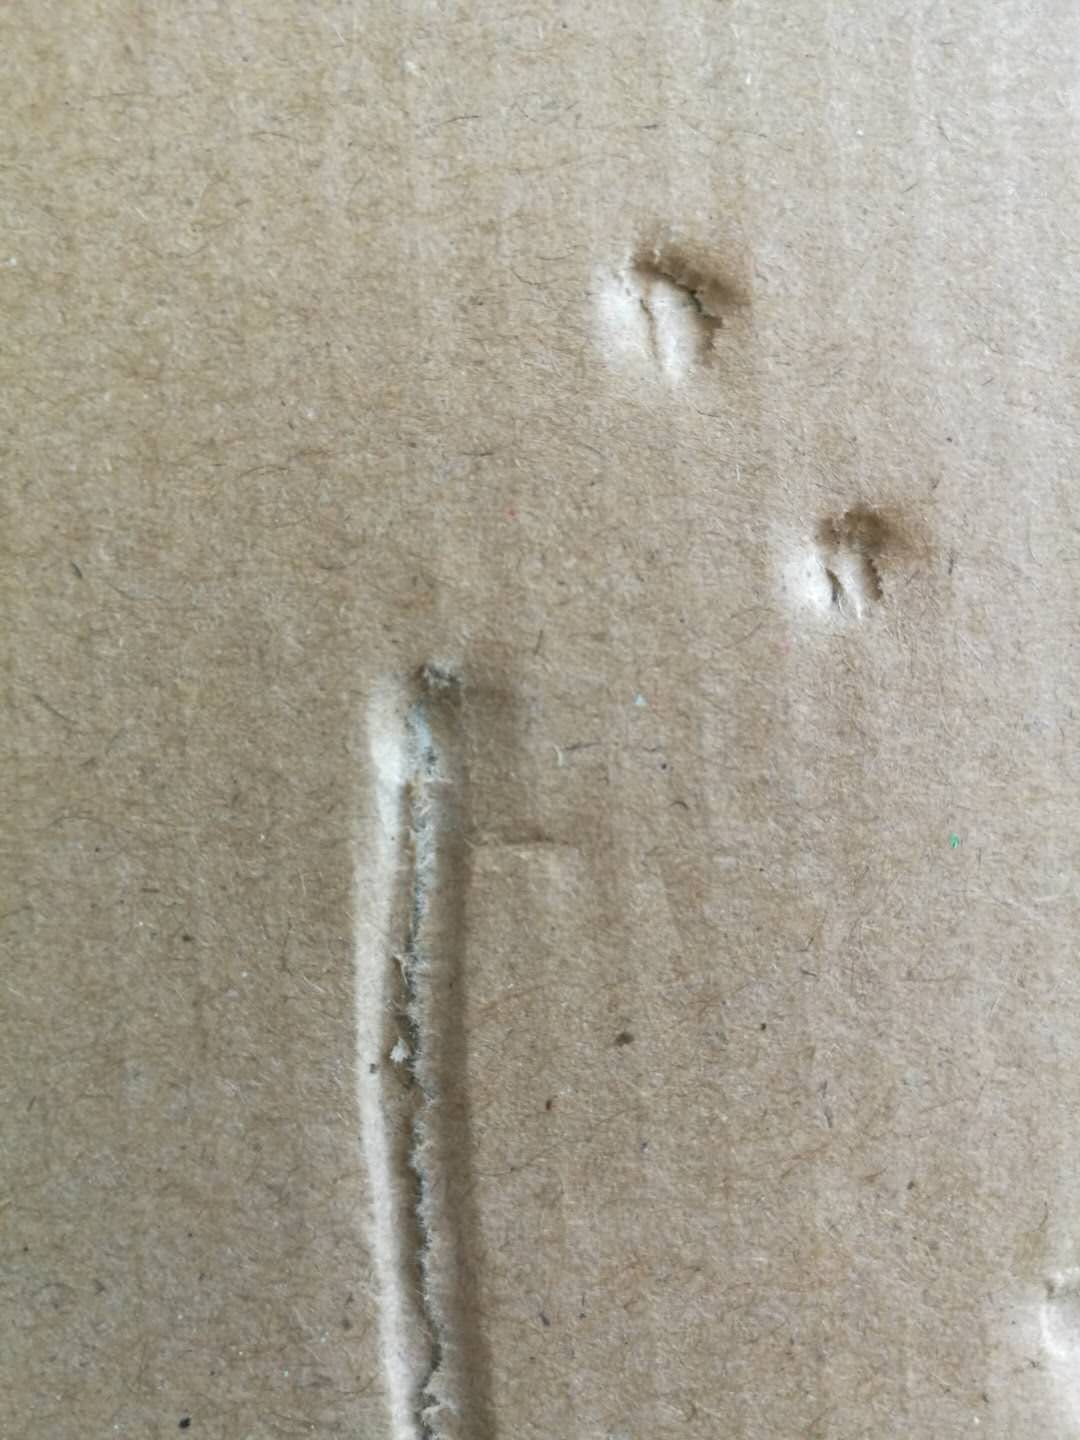defect: (279, 598, 659, 1440), (571, 195, 788, 418), (769, 472, 974, 661), (989, 1196, 1080, 1407)
